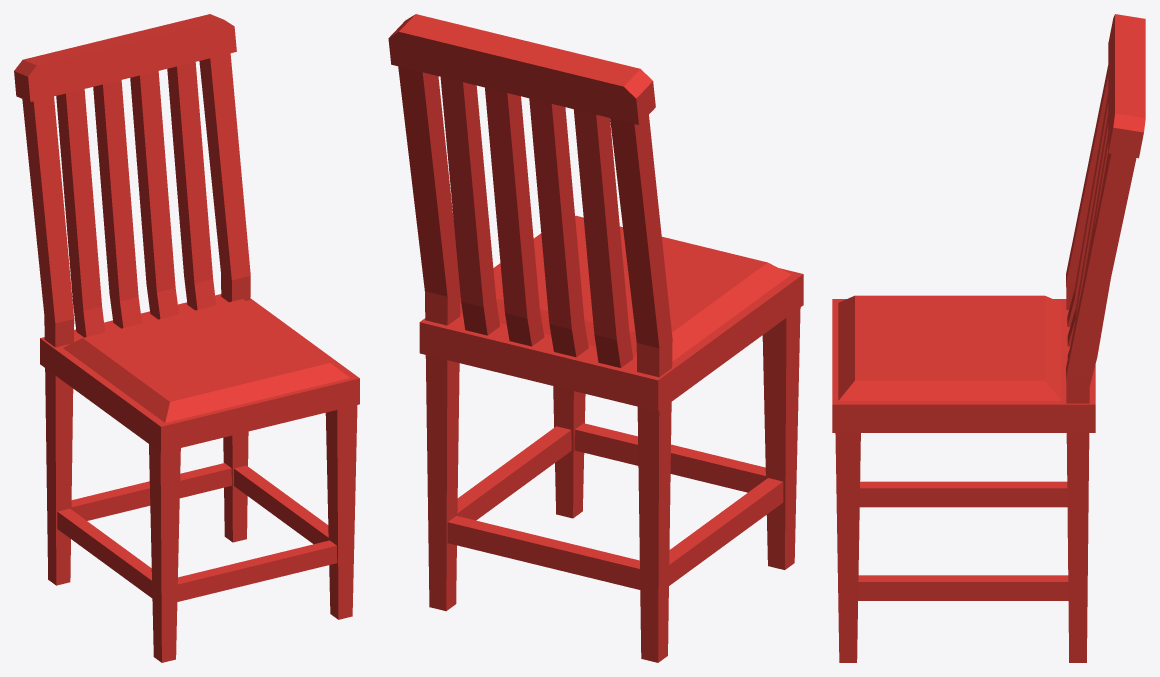
The model's file is SM_Chair_Dinner_Christmas.fbx.
3 renders of one model, left to right at view 1: azimuth 30°, elevation 25°; view 2: azimuth 150°, elevation 25°; view 3: azimuth 270°, elevation 25°, orthographic. The views are drawn at different scales.
Visible parts, largest first — view 1: chair-dinner-christmas; view 2: chair-dinner-christmas; view 3: chair-dinner-christmas.
Boxes of the visible parts, x1,y1,x2,y2 form: chair-dinner-christmas: [14, 14, 359, 662]; chair-dinner-christmas: [388, 14, 803, 662]; chair-dinner-christmas: [832, 14, 1145, 662].
Bounding box in the file's own units: 0.4287 × 1 × 0.5181.
